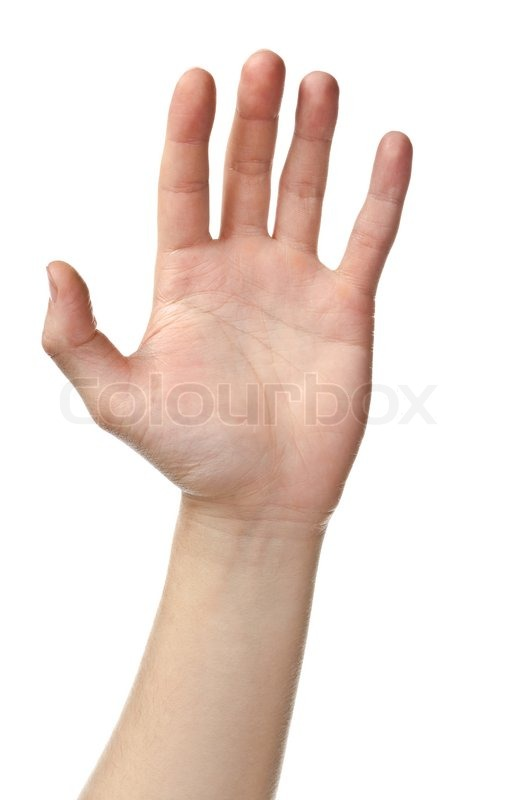finger: (269, 66, 354, 253), (135, 63, 222, 238), (349, 122, 428, 301), (221, 43, 277, 234)
